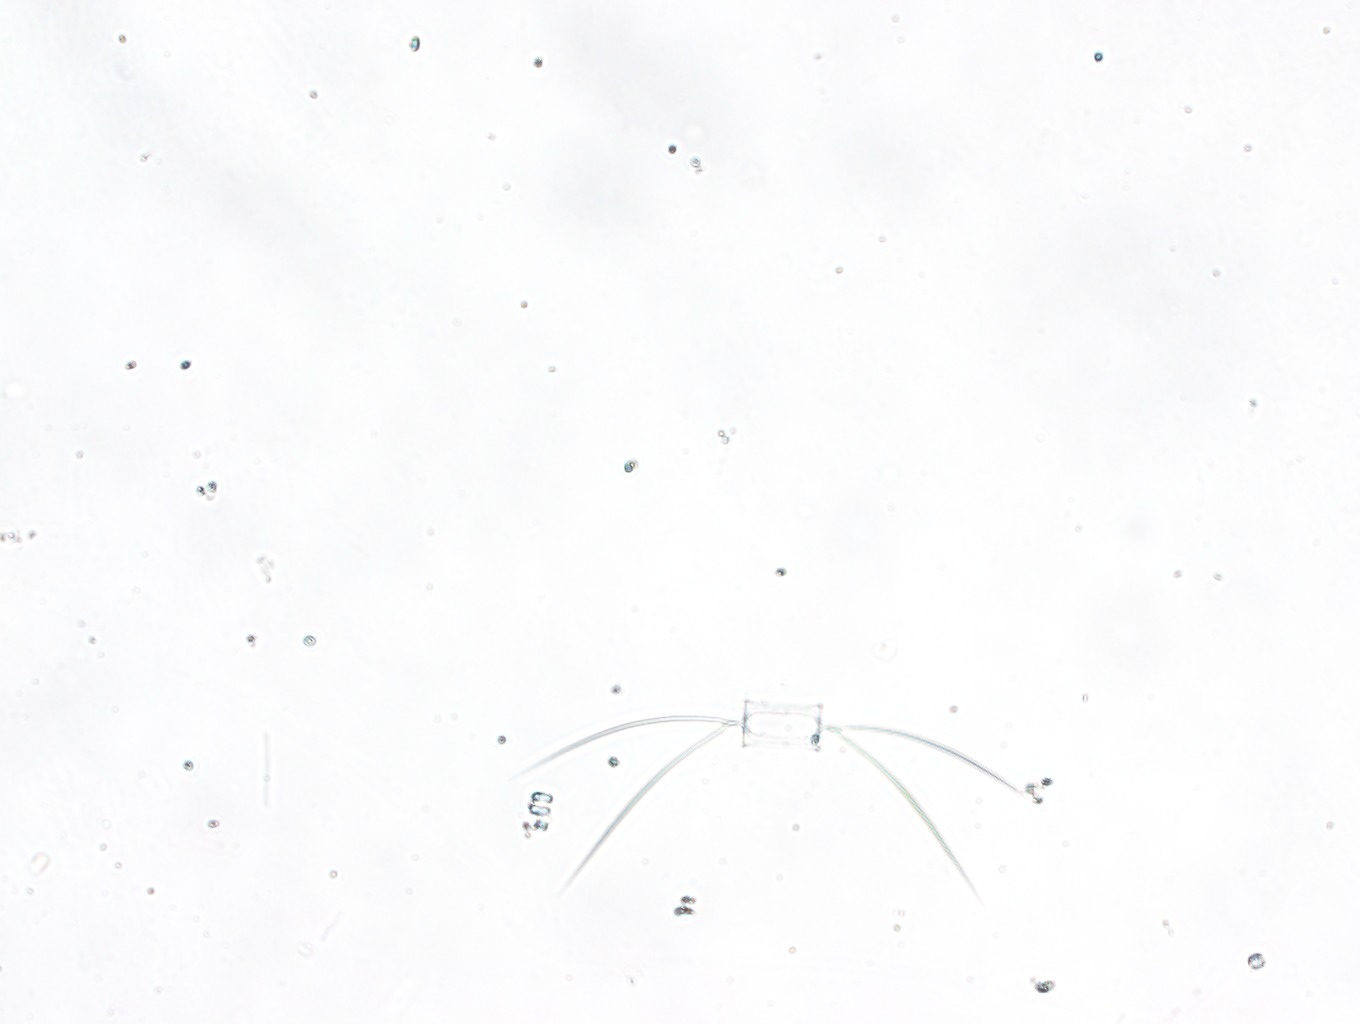chaetoceros: (526, 697, 1023, 899)
